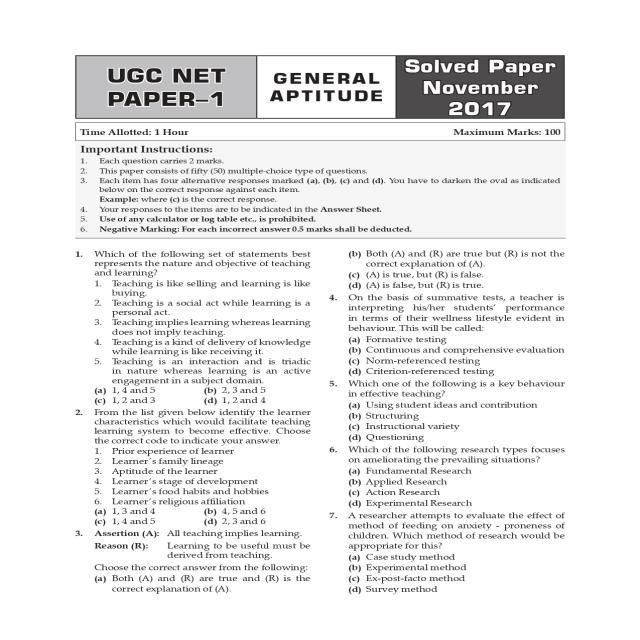Answer_Block: (327, 242, 592, 292), (322, 462, 594, 510), (328, 399, 592, 446), (327, 333, 592, 377), (323, 554, 597, 596), (58, 380, 324, 408), (67, 506, 327, 528), (67, 573, 320, 595)
Instruction: (67, 139, 597, 242)
Question_Answer_Block: (65, 242, 325, 408), (67, 411, 325, 528), (321, 504, 599, 600), (323, 292, 594, 377), (324, 441, 596, 510), (327, 377, 590, 446), (74, 528, 322, 595), (326, 242, 594, 292)
Question_Block: (65, 243, 325, 385), (64, 407, 324, 510), (70, 527, 322, 575), (323, 292, 592, 336), (323, 510, 597, 552), (324, 441, 596, 466), (327, 376, 590, 398)
Question_Paper_Area: (58, 120, 614, 610)
